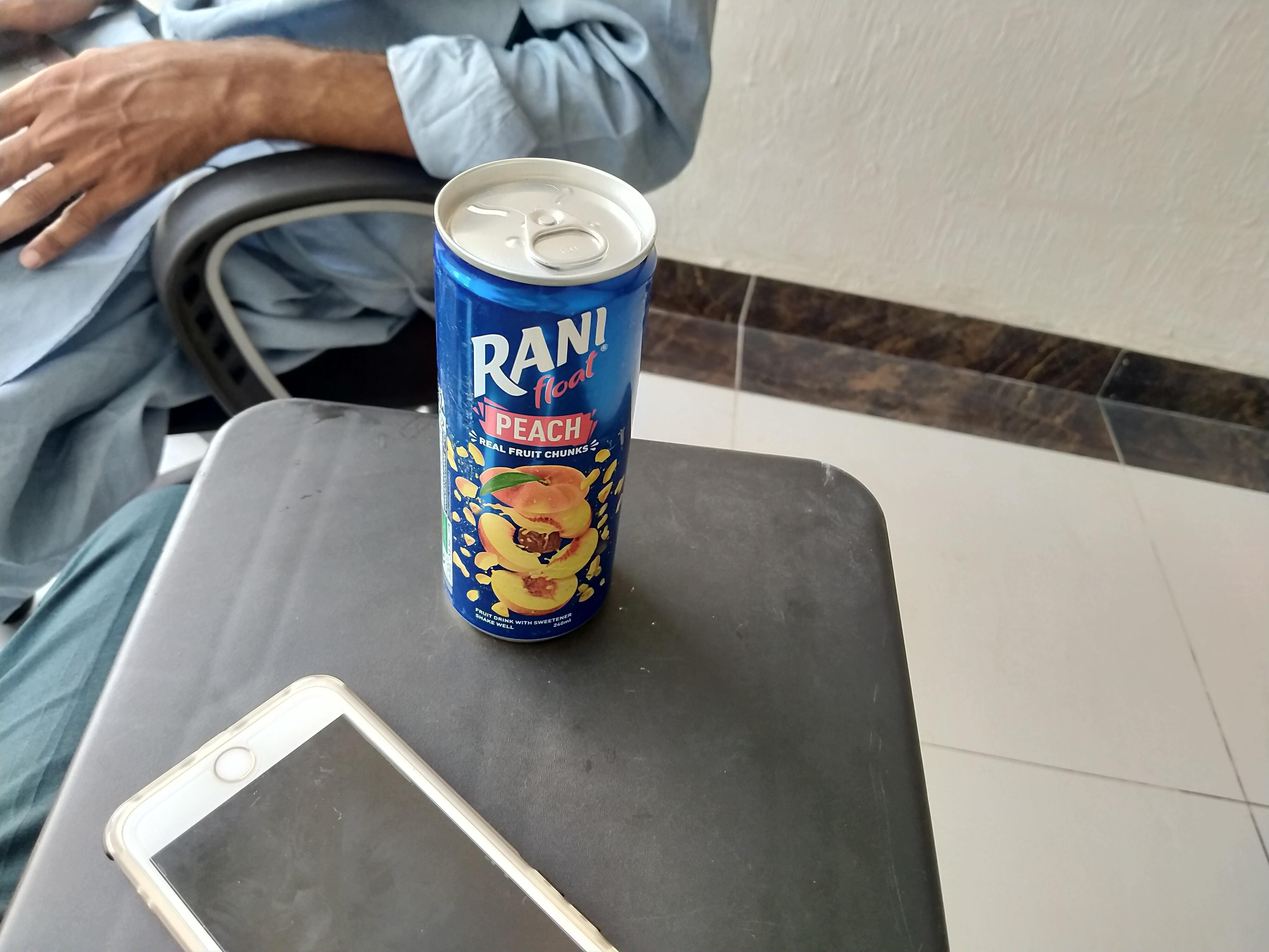tin can: (429, 154, 658, 647)
